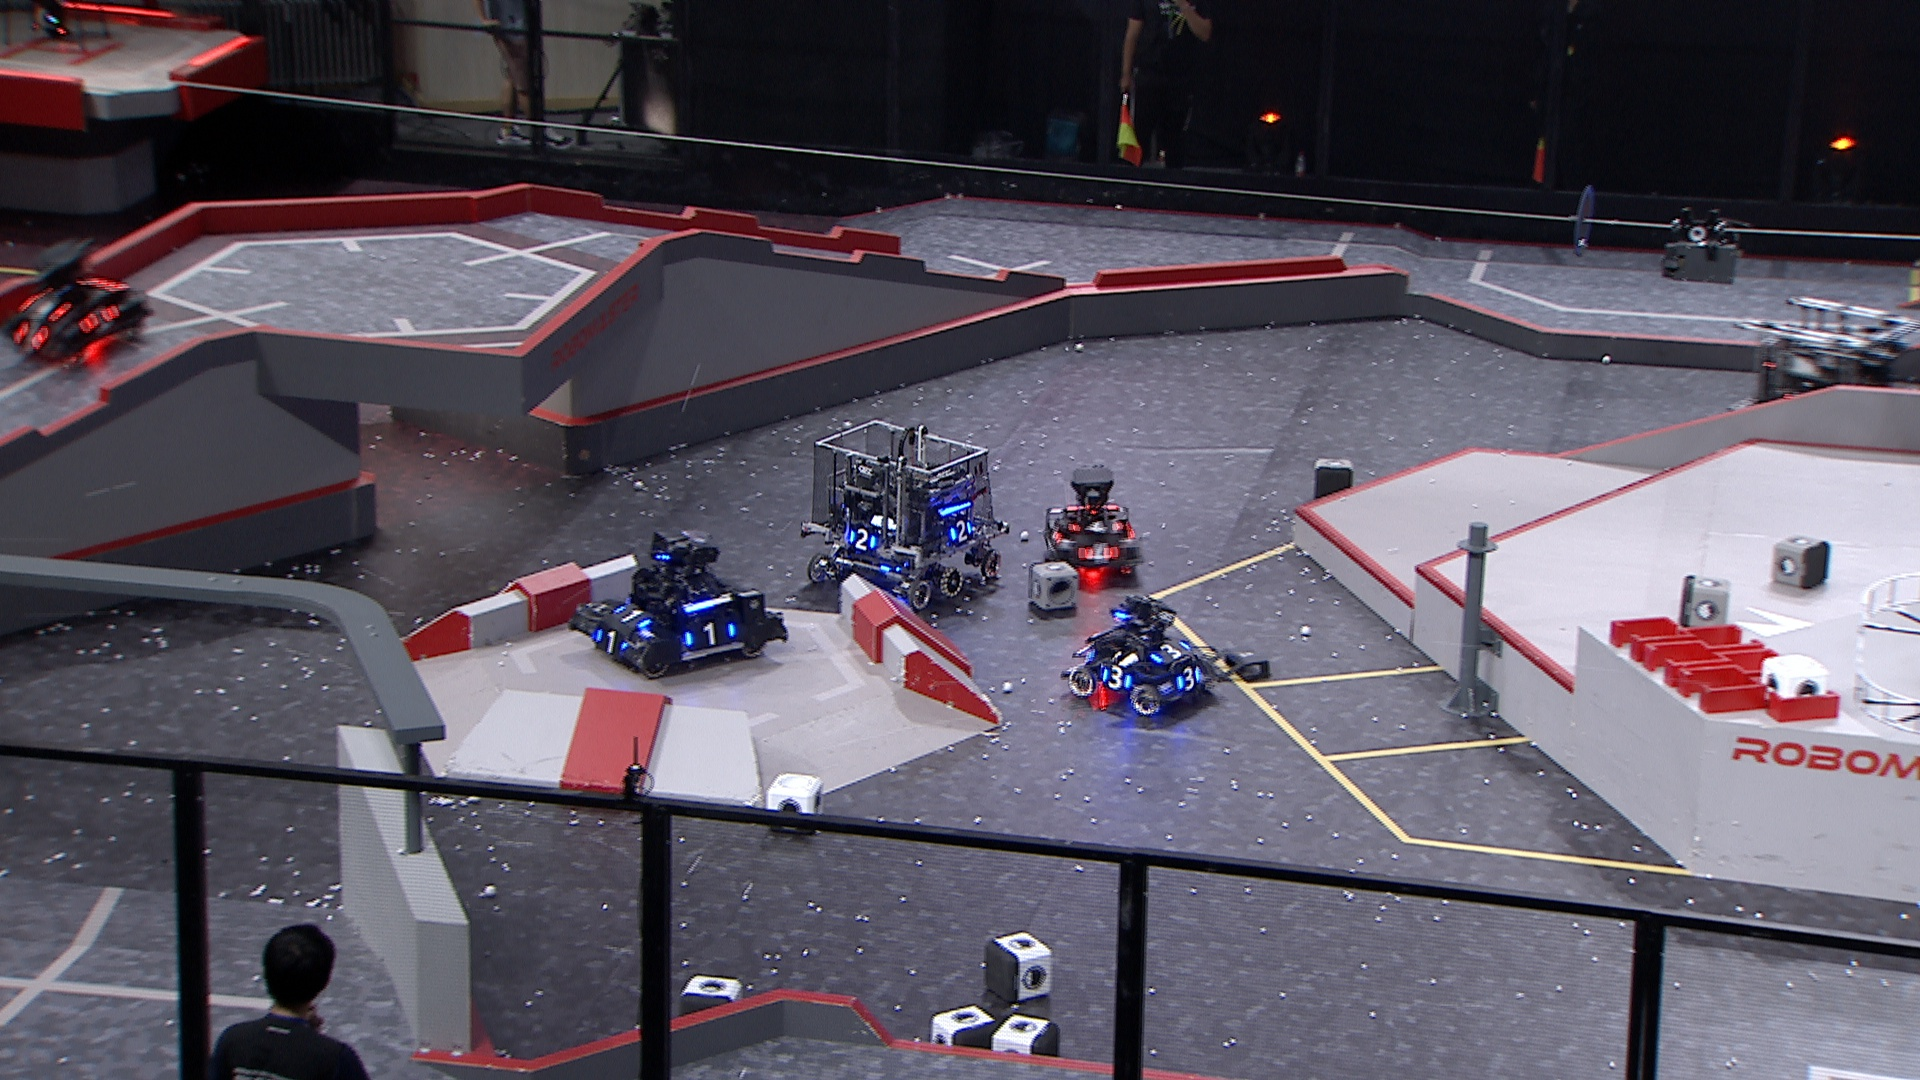armor: (680, 618, 735, 647), (22, 295, 71, 323), (78, 305, 123, 334), (8, 320, 49, 352), (1150, 640, 1191, 669), (593, 628, 632, 655), (1077, 541, 1120, 566), (1065, 520, 1122, 538), (615, 604, 651, 632), (1100, 665, 1134, 694), (847, 527, 880, 551), (1174, 665, 1201, 692), (945, 520, 975, 542), (1044, 524, 1064, 546)
car: (799, 418, 1011, 613), (568, 527, 790, 680), (1733, 295, 1920, 451), (1058, 589, 1218, 717), (1040, 462, 1143, 582)
